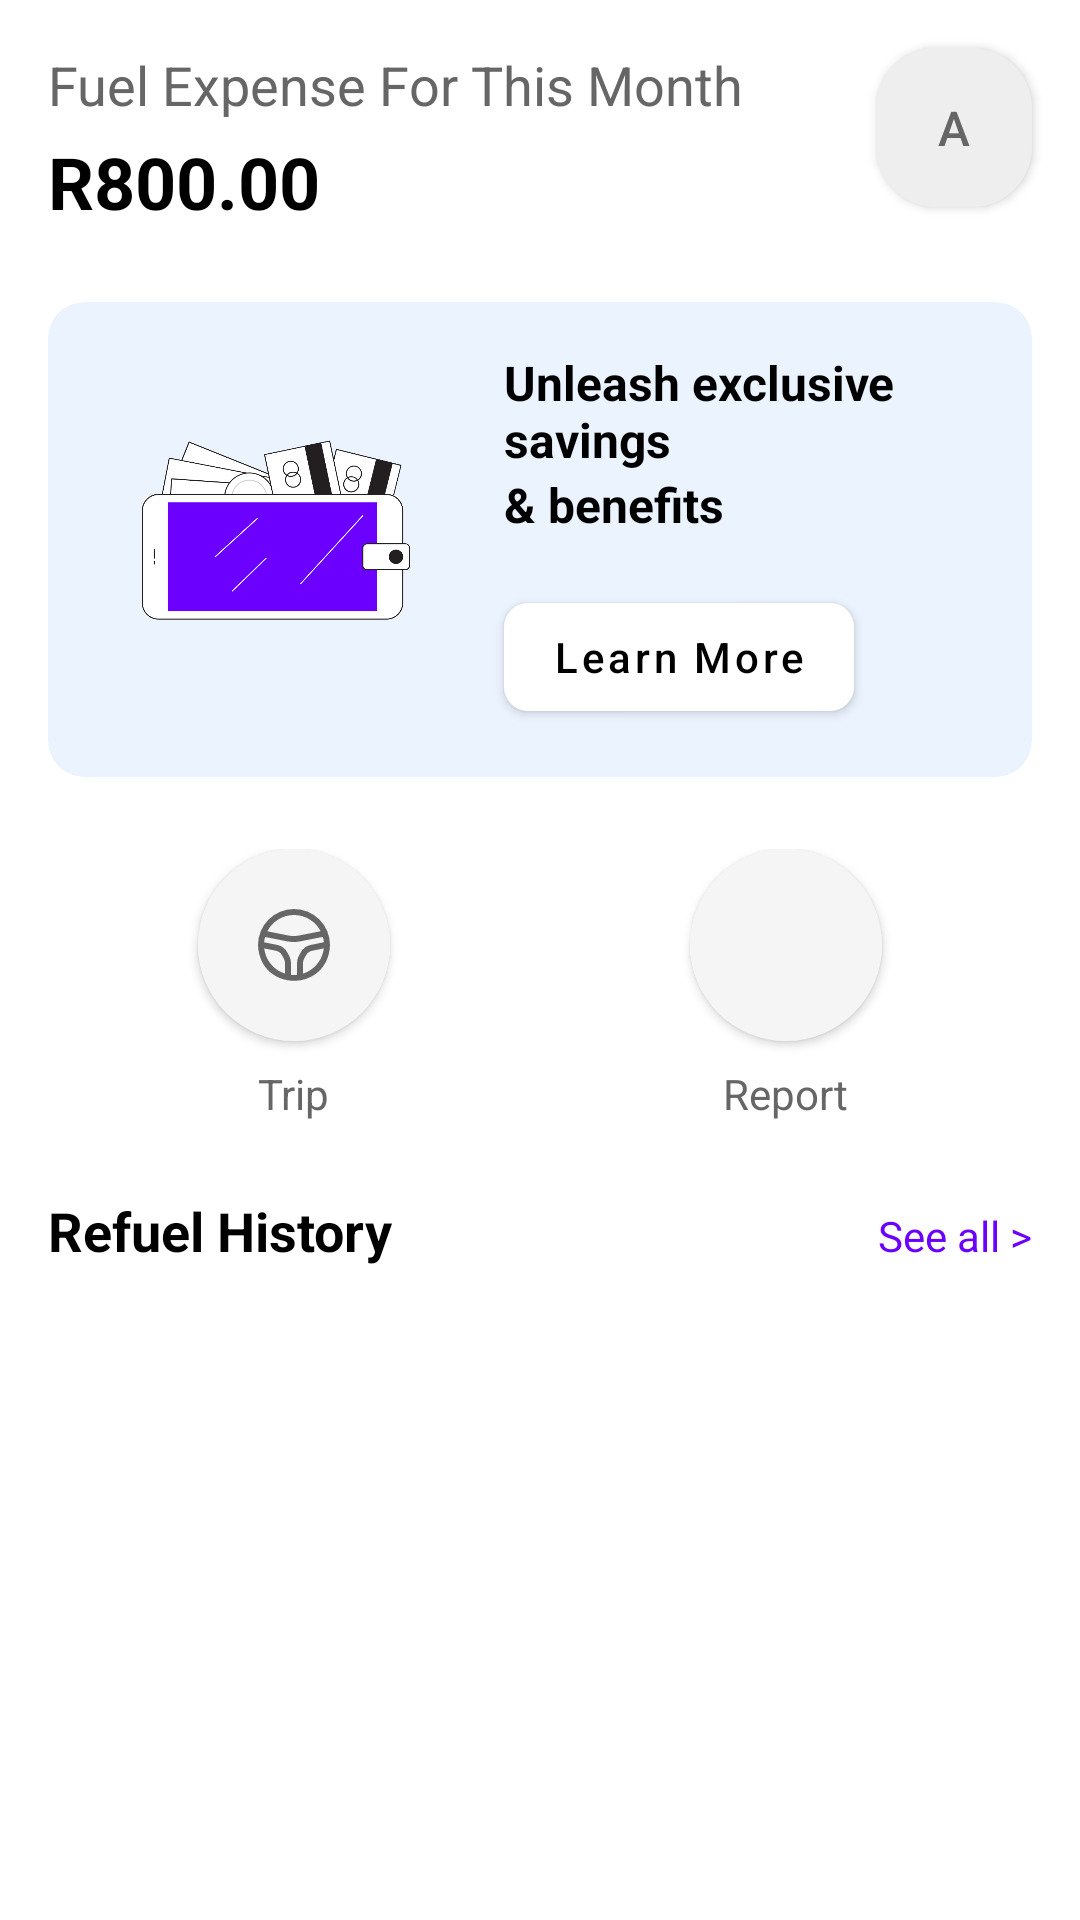

Where icons sit on this 1080×1920 app screen, as (x1, y1, x2, y2):
savings illustration: (142, 440, 410, 620)
steering wheel: (198, 849, 390, 1041)
